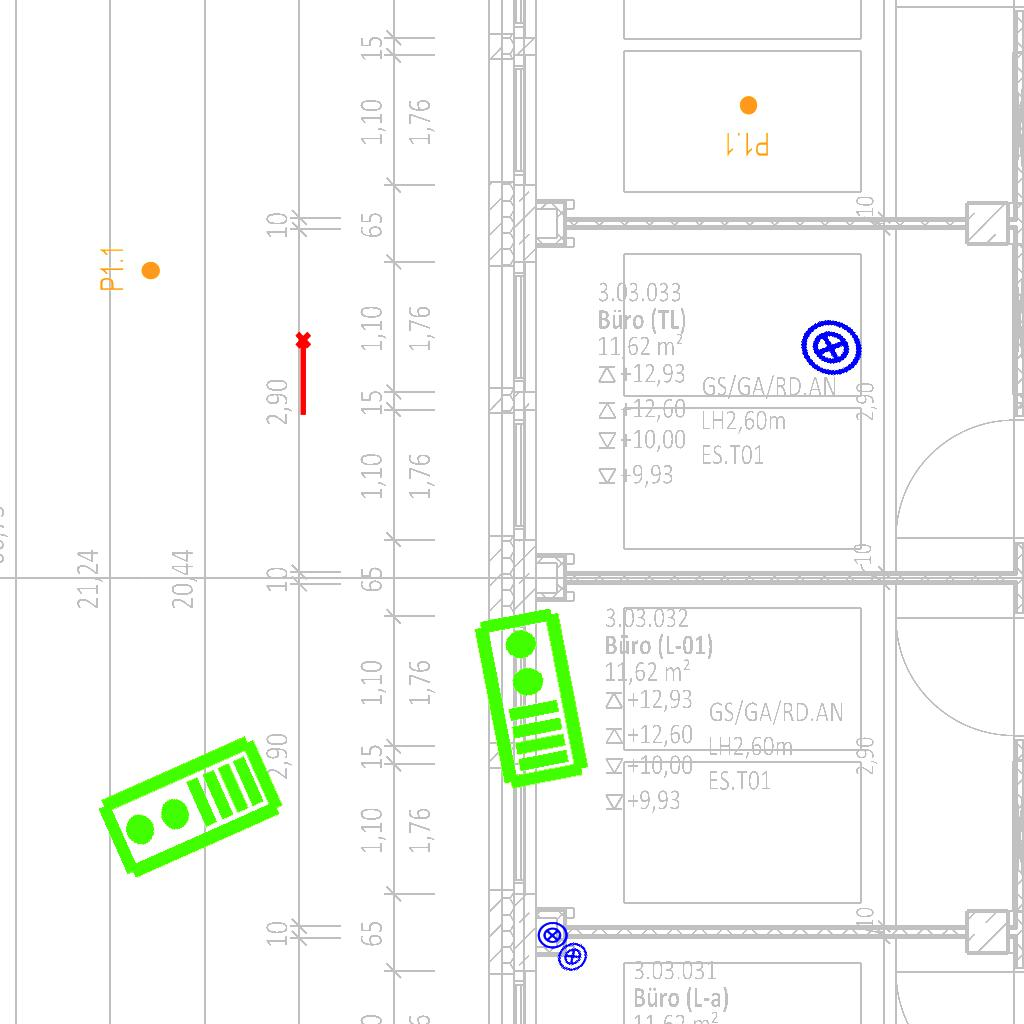ASR_Ansaugoeffnung: (293, 330, 316, 418)
Downlight_LED_Einbauleuchten_Flur: (98, 246, 162, 292), (724, 94, 770, 158)
Gegensprechanlage_mit_Video: (90, 729, 291, 889), (466, 602, 593, 794)
Taster_beleuchtet: (788, 305, 874, 391), (549, 933, 596, 980), (536, 919, 569, 952)
